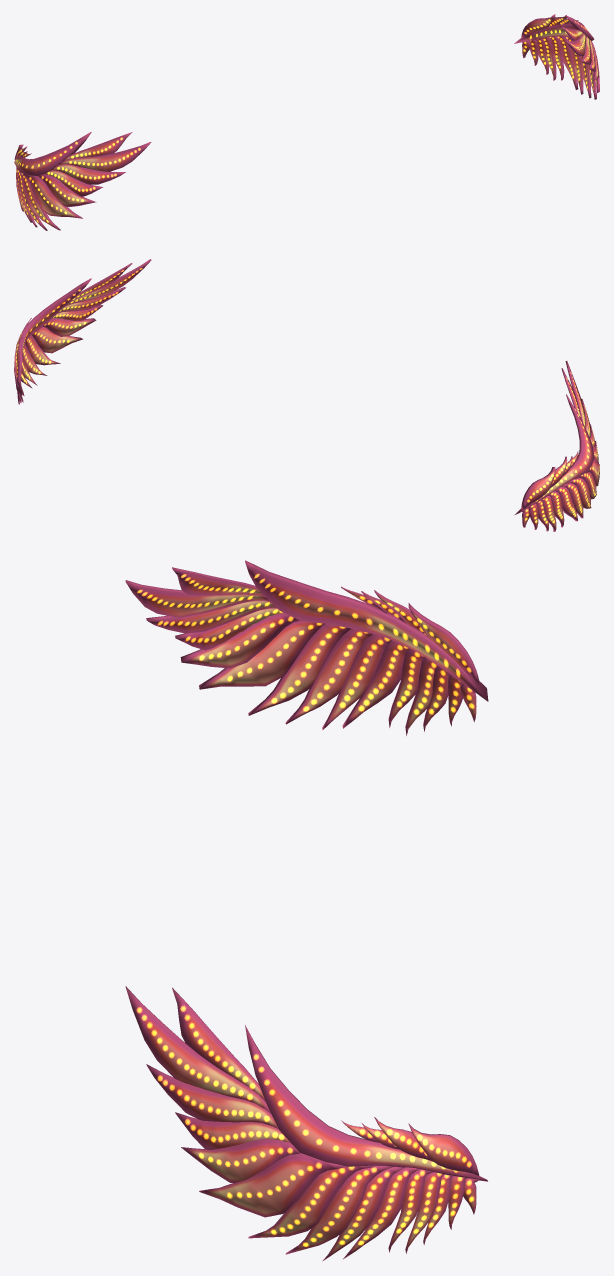
Rendered from dragon's_wings(4).glb.
The picture shows the model from 3 angles, top to bottom: view 1: azimuth 30°, elevation 25°; view 2: azimuth 150°, elevation 25°; view 3: azimuth 270°, elevation 25°; orthographic projection. The views are drawn at different scales.
Visible parts, largest first — view 1: Dragon's Wings(4); view 2: Dragon's Wings(4); view 3: Dragon's Wings(4).
Boxes of the visible parts, bbox=[...] form: Dragon's Wings(4): bbox=[14, 14, 599, 230]; Dragon's Wings(4): bbox=[14, 259, 599, 531]; Dragon's Wings(4): bbox=[125, 560, 488, 1261].
Size of what is drawn, in the model's own units: 25.92 by 4.77 by 7.2.
1 material, 1 textured.
